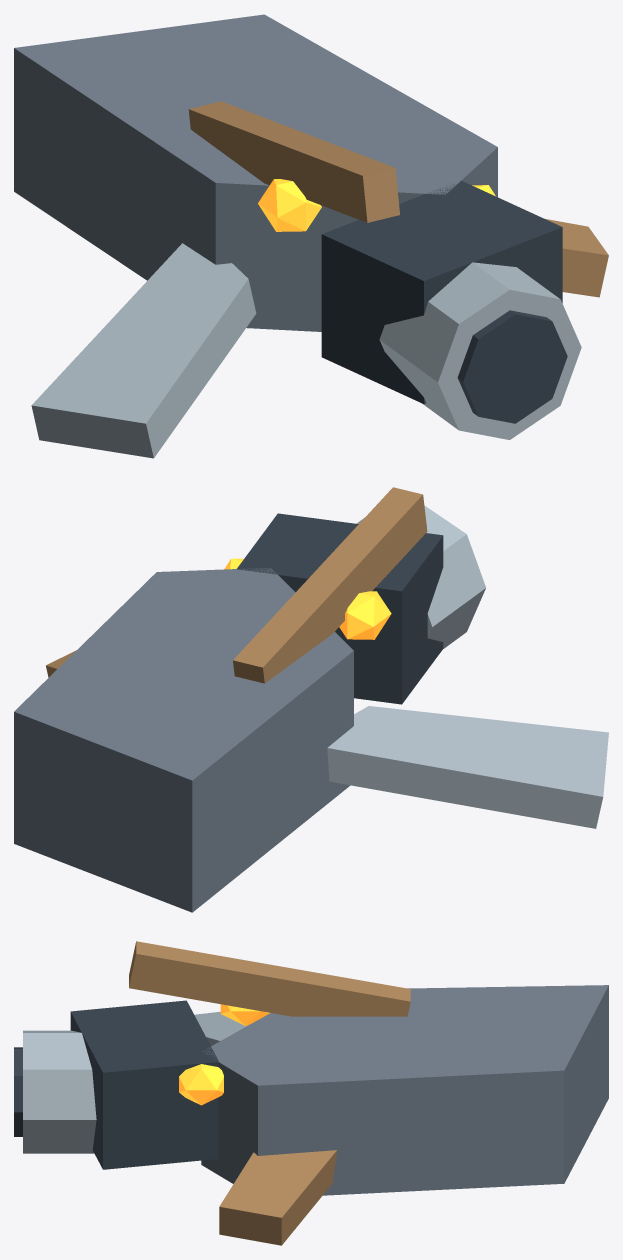
File: derelict.glb
3 renders of one model, top to bottom at view 1: azimuth 30°, elevation 25°; view 2: azimuth 150°, elevation 25°; view 3: azimuth 270°, elevation 25°, orthographic. The views are drawn at different scales.
Parts seen in each view (by area): view 1: derelict-gunmetal, derelict-steel, derelict-black, derelict-bronze, derelict-orange; view 2: derelict-gunmetal, derelict-steel, derelict-black, derelict-bronze, derelict-orange; view 3: derelict-gunmetal, derelict-bronze, derelict-black, derelict-steel, derelict-orange.
Part boxes in pixels (left/top/right/bottom): derelict-gunmetal: left=14, top=14, right=497, bottom=331; derelict-steel: left=31, top=243, right=581, bottom=458; derelict-black: left=321, top=180, right=567, bottom=423; derelict-bronze: left=188, top=101, right=608, bottom=297; derelict-orange: left=258, top=179, right=495, bottom=231; derelict-gunmetal: left=14, top=568, right=353, bottom=912; derelict-steel: left=327, top=505, right=608, bottom=828; derelict-black: left=237, top=513, right=443, bottom=704; derelict-bronze: left=46, top=487, right=427, bottom=683; derelict-orange: left=224, top=558, right=391, bottom=639; derelict-gunmetal: left=201, top=985, right=608, bottom=1195; derelict-bronze: left=129, top=941, right=410, bottom=1245; derelict-black: left=14, top=1000, right=218, bottom=1169; derelict-steel: left=23, top=1011, right=249, bottom=1153; derelict-orange: left=179, top=1004, right=269, bottom=1105.
Size of the model in its own units: 1.67 by 0.6901 by 1.88.
